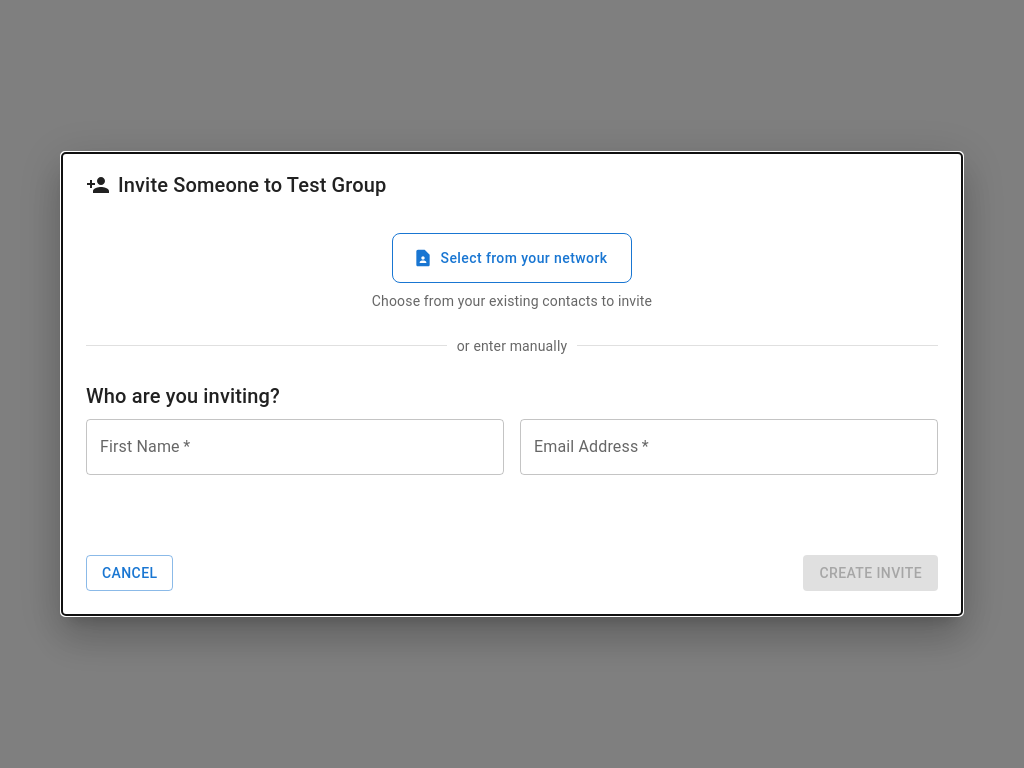
it: InviteForm › enables create invite button when fields are filled
The image size is (1024, 768).
Type "John Doe" into the field labelled "First Name *". click: (295, 446)
box: [86, 418, 504, 474]
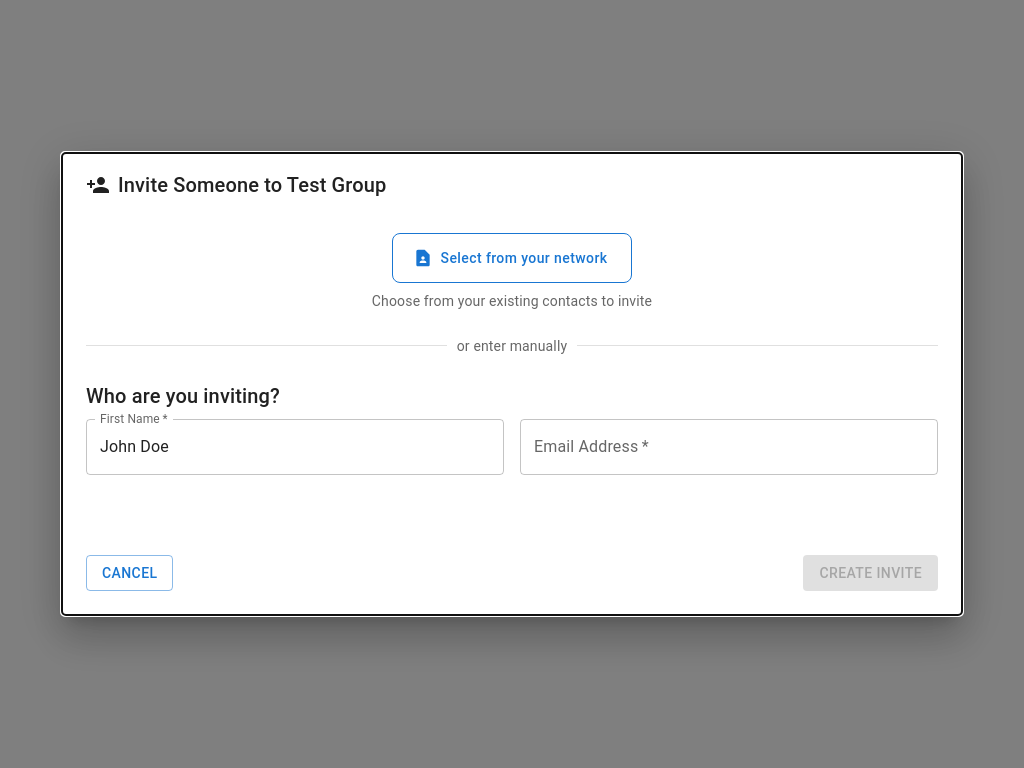
Type "john@example.com" into the field labelled "Email Address *". click: (729, 446)
box: [520, 418, 938, 474]
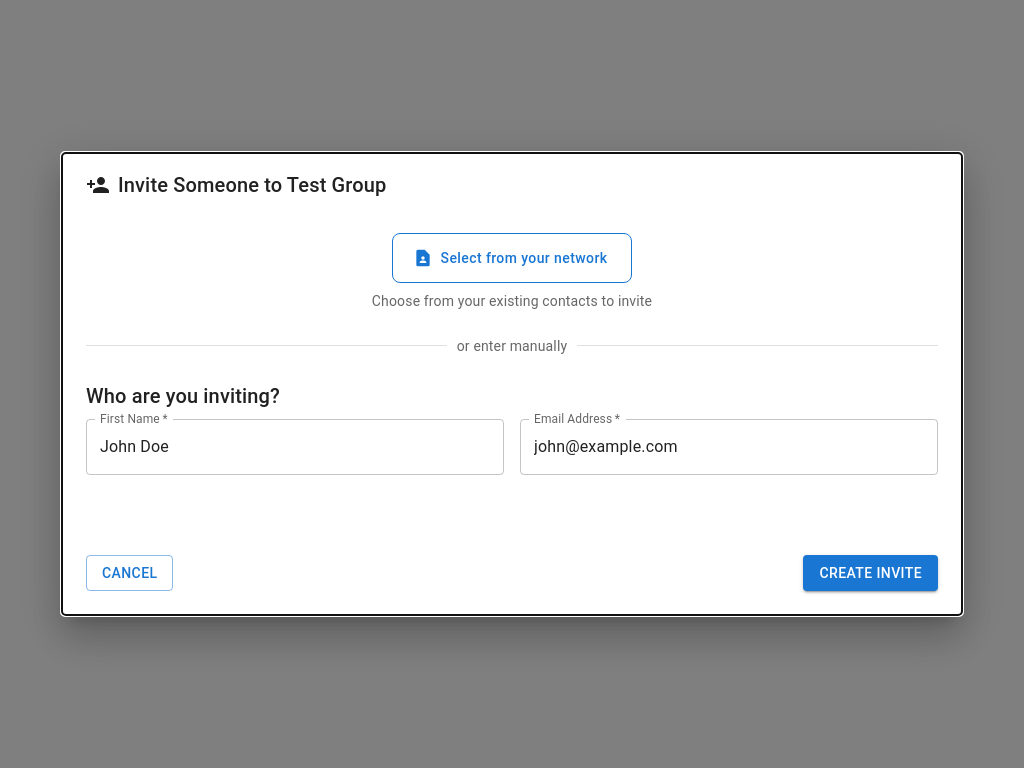
Expected: the button "Create Invite" is enabled, [804, 554, 938, 591]
